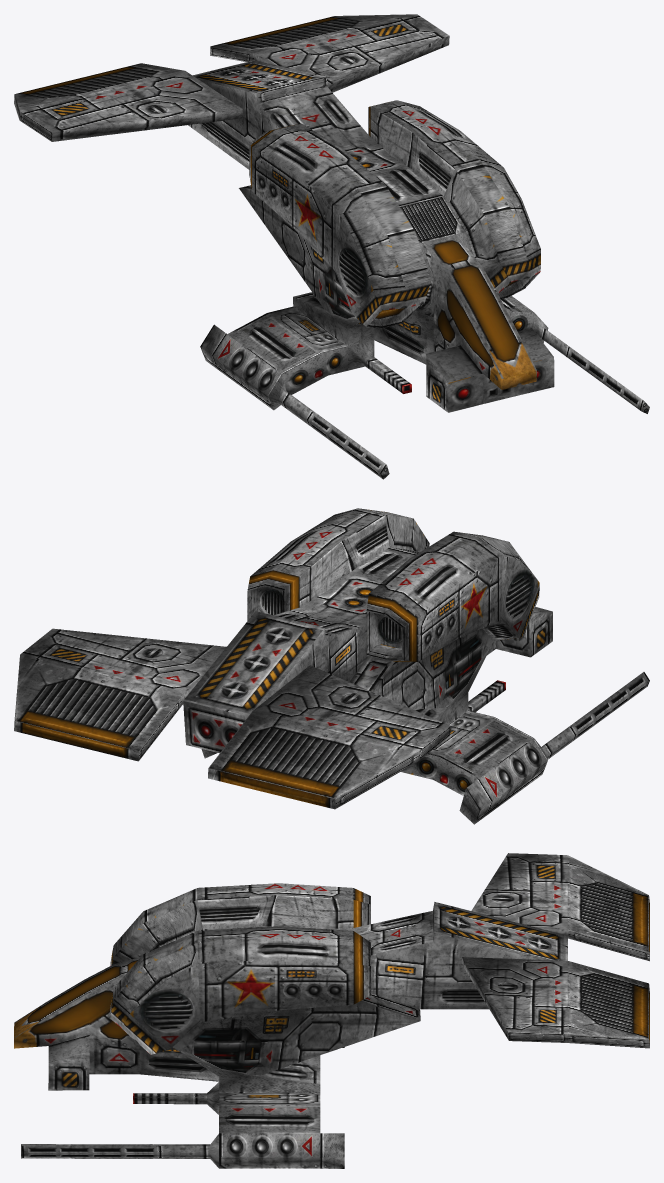
The model's file is azan.glb.
The picture shows the model from 3 angles, top to bottom: view 1: azimuth 30°, elevation 25°; view 2: azimuth 150°, elevation 25°; view 3: azimuth 270°, elevation 25°; orthographic projection. The views are drawn at different scales.
Parts seen in each view (by area): view 1: Houjian, Houjian Tail; view 2: Houjian, Houjian Tail; view 3: Houjian, Houjian Tail.
Part boxes in pixels (x1,y1,x2,y2): Houjian: (188, 60, 649, 479); Houjian Tail: (14, 14, 449, 141); Houjian: (183, 508, 649, 824); Houjian Tail: (14, 628, 450, 809); Houjian: (14, 883, 567, 1168); Houjian Tail: (462, 853, 649, 1048).
Size of the model in its own units: 740 by 382 by 1112.
Materials: 1 (1 with a texture image).
